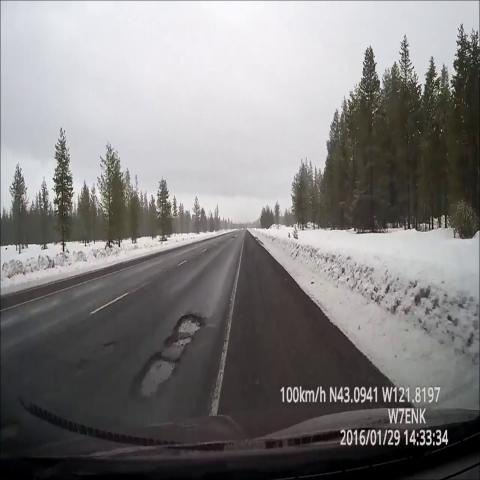pothole: (126, 292, 214, 415)
